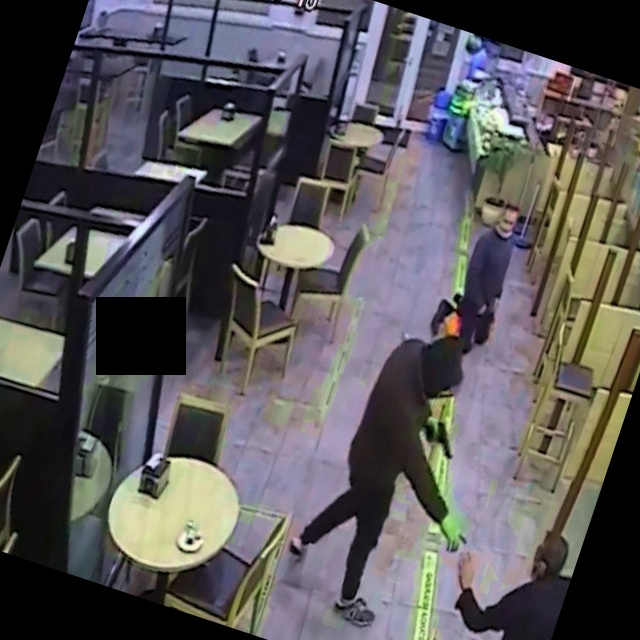gun: (408, 405, 473, 469)
